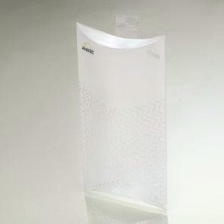plastic_box: (66, 7, 173, 218)
